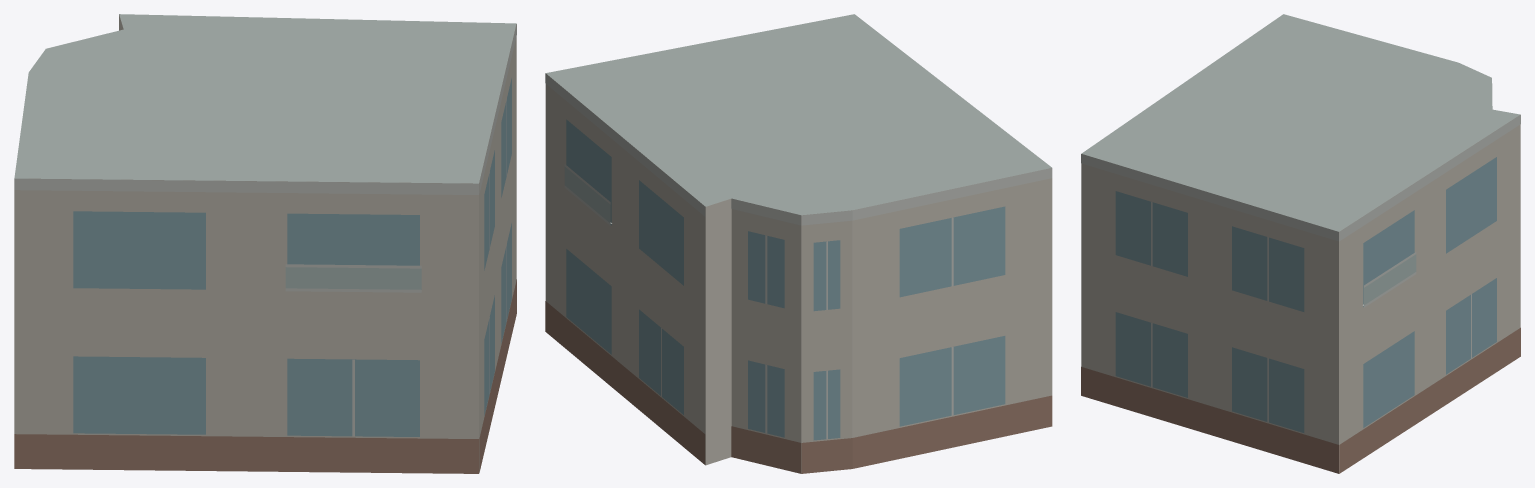
The model's file is survey-upis-33006895.glb.
3 renders of one model, left to right at view 1: azimuth 30°, elevation 25°; view 2: azimuth 150°, elevation 25°; view 3: azimuth 270°, elevation 25°, orthographic. The views are drawn at different scales.
Visible parts, largest first — view 1: survey-upis-33006895.tmp; view 2: survey-upis-33006895.tmp; view 3: survey-upis-33006895.tmp.
Part boxes in pixels (bbox=[...]): survey-upis-33006895.tmp: bbox=[14, 14, 516, 473]; survey-upis-33006895.tmp: bbox=[545, 14, 1052, 473]; survey-upis-33006895.tmp: bbox=[1081, 14, 1520, 473].
Bounding box in the file's own units: 11.79 × 6.1 × 10.05.
